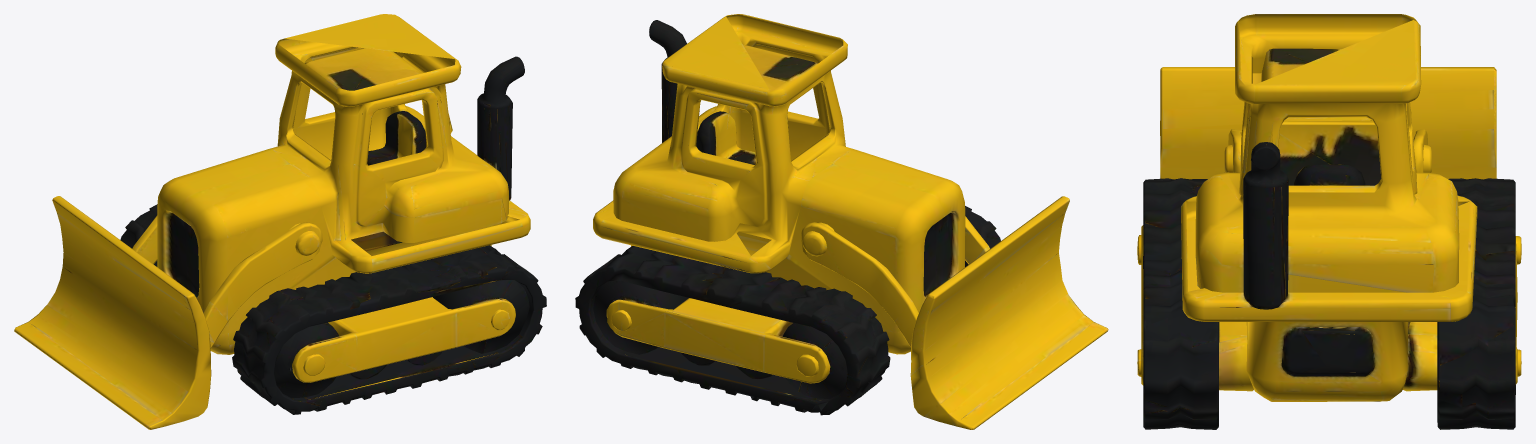
The model's file is veh-dozer.glb.
3 renders of one model, left to right at view 1: azimuth 30°, elevation 25°; view 2: azimuth 150°, elevation 25°; view 3: azimuth 270°, elevation 25°, orthographic. The views are drawn at different scales.
Size of the model in its own units: 1.56 by 1 by 1.02.
1 material, 1 textured.
